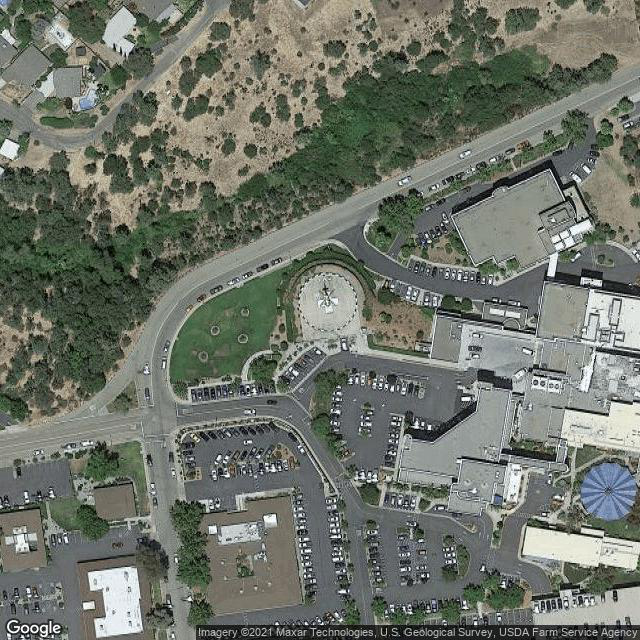Helipad: (300, 274, 360, 331)
